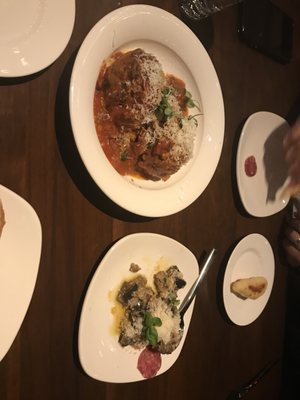sushi: (67, 4, 225, 220), (76, 232, 213, 382)
